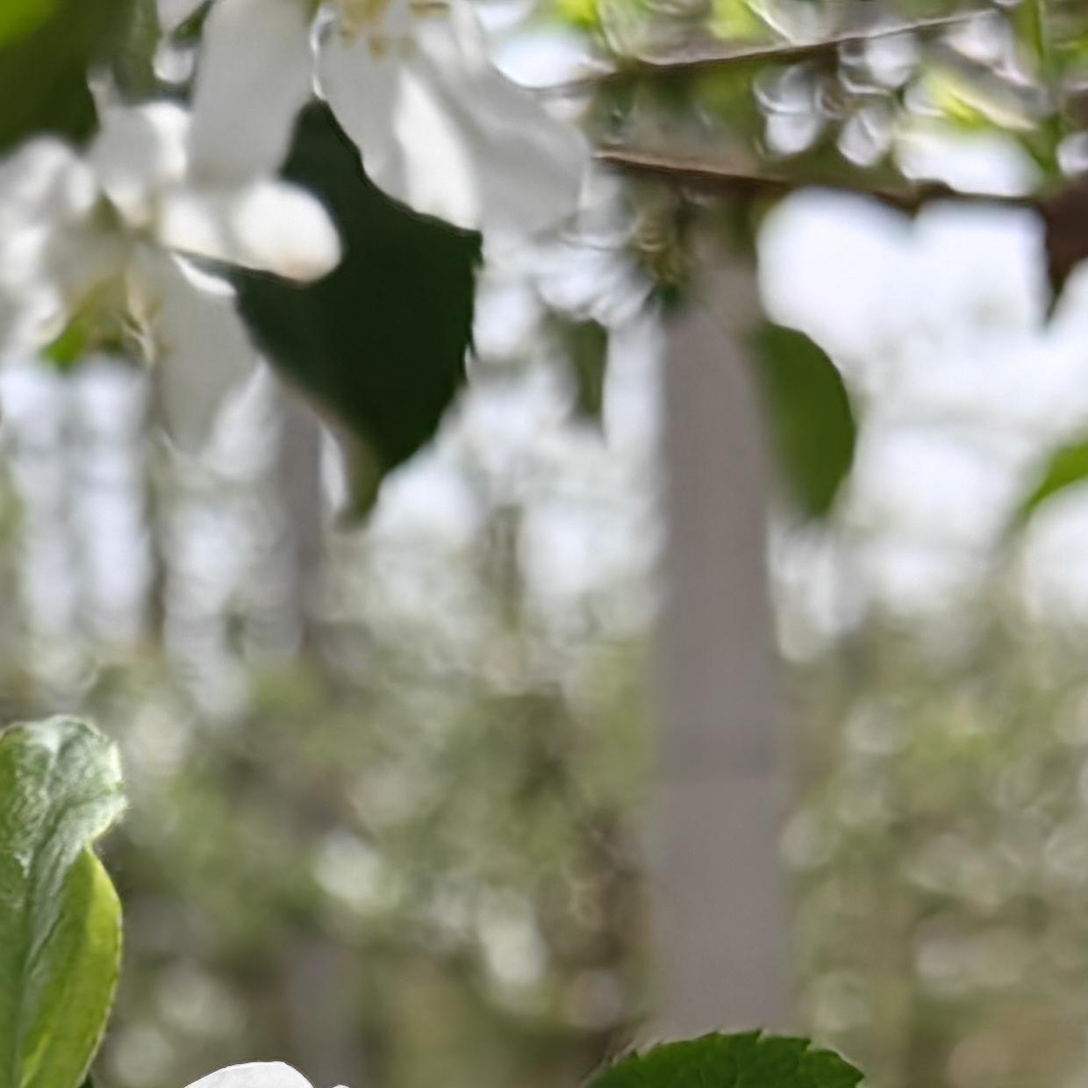apple_flower: (0, 0, 591, 426)
